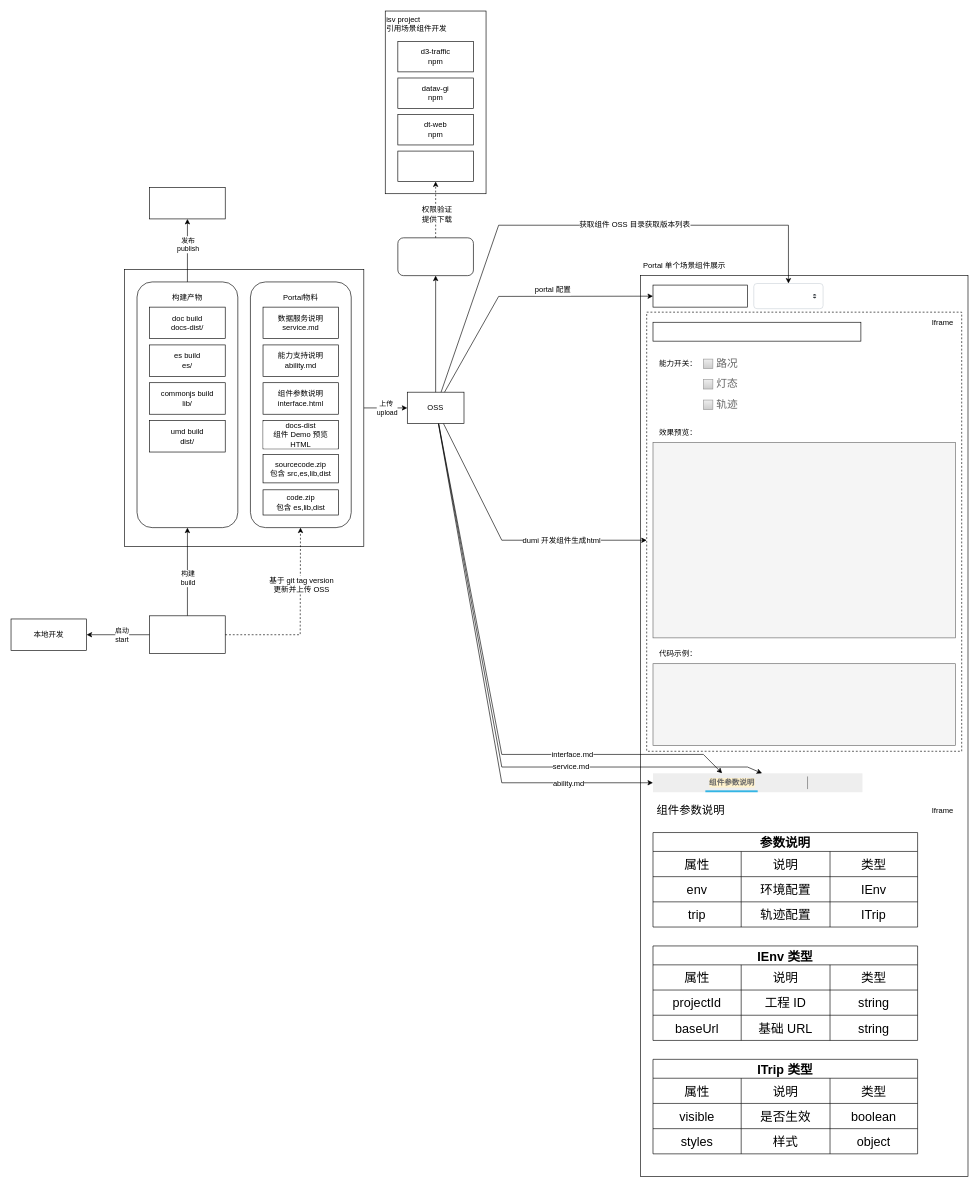
The diagram is 979 pixels wide and 1188 high, and some of its shapes have lost their labels. Each missing label, with the centre of its shape:
tnpm: the point at 187,203
使用代码展示: the point at 803,704
场景库工程: the point at 187,634
场景组件 构建代码或源码: the point at 435,166
场景组件名称: the point at 699,295
场景组件说明: the point at 756,331
开放平台 Portal: the point at 435,256
效果渲染: the point at 803,540
服务说明: the point at 783,782
版本v1.0.1: the point at 788,296
能力支持: the point at 678,782
